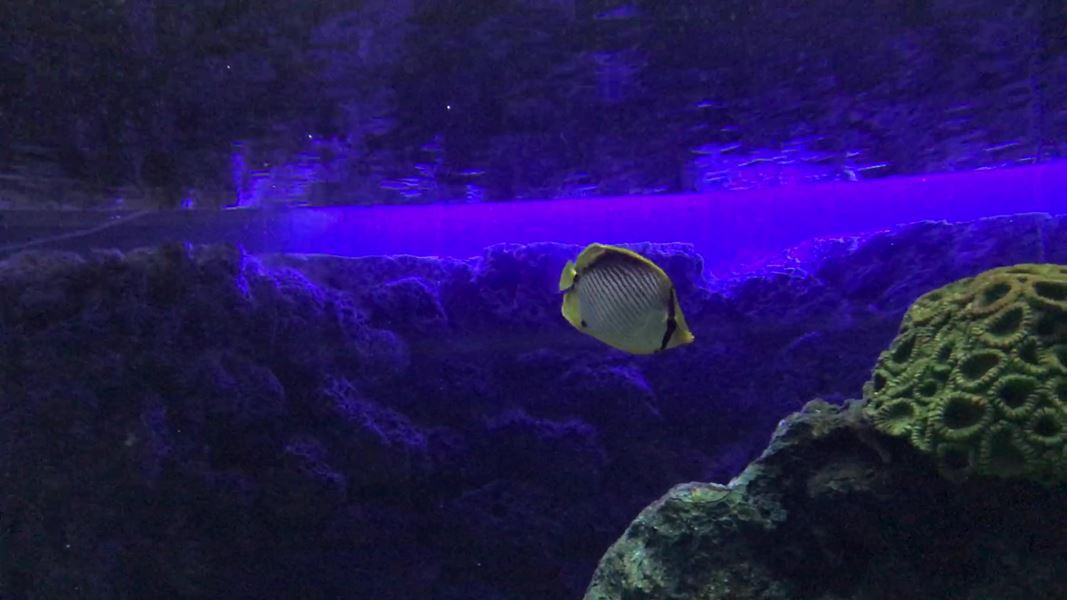Black-backed butterflyfish: (537, 236, 706, 366)
